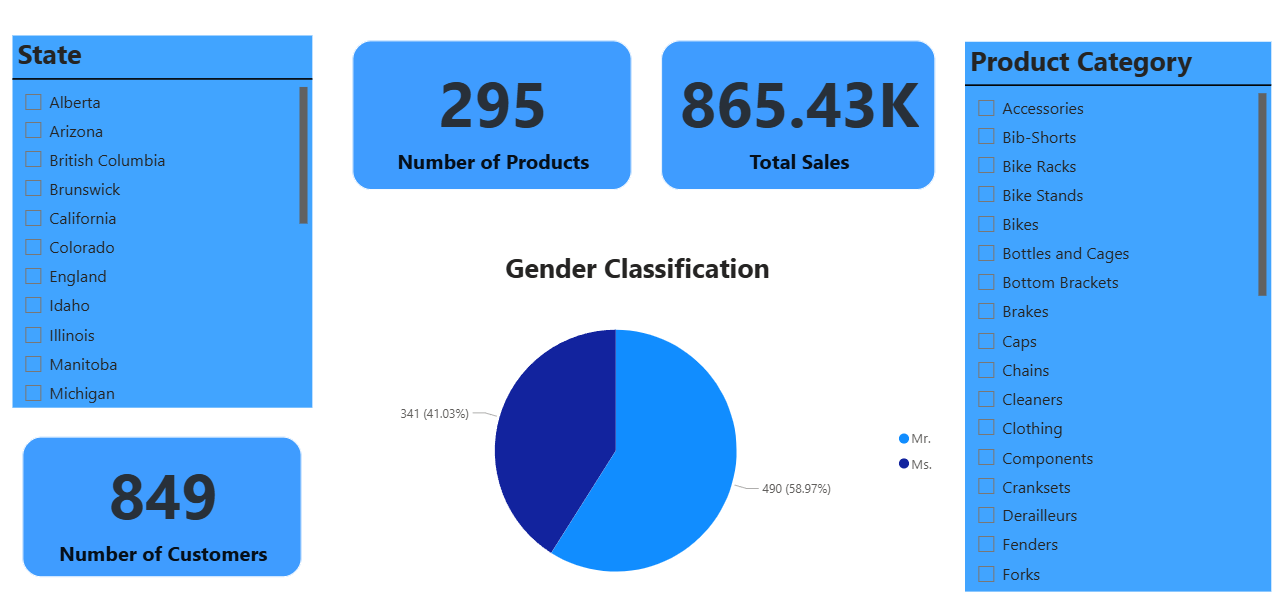

What the dashboard file says about the page in this screenshot:
{"tool":"powerbi","page":{"name":"Page 1","canvas":[1280,720],"ordinal":0},"visuals":[{"type":"cardVisual","fields":{"Data":["CountNonNull(Product.Product_ID)"]},"box":[350.8,72.4,288.6,159.2],"z":0},{"type":"cardVisual","fields":{"Data":["CountNonNull(Customer.Customer_ID)"]},"box":[22.4,466.7,288.6,150.5],"z":1000},{"type":"cardVisual","fields":{"Data":["Sum(SalesOrderHeader.Sub_Total)"]},"box":[658.1,72.4,283.6,159.2],"z":2000},{"type":"slicer","title":"State","fields":{"Values":["Address.State_Province"]},"box":[17.4,72.4,298.6,370.7],"z":3000},{"type":"pieChart","title":"Gender Classification","fields":{"Y":["CountNonNull(Customer.Customer_ID)"],"Category":["Customer.Title"]},"box":[332.1,285.1,614.5,363.2],"z":4000},{"type":"slicer","title":"Product Category","fields":{"Values":["ProductCategory.Name"]},"box":[965.3,78.6,304.8,547.3],"z":5000}]}

Visuals, with their boxes on the page's 1280x720 design canvas (x1, y1, x2, y2). These are canvas units, not pixel positions in the 1281x610 screenshot, which may show the page scaled, cropped or inside an application window:
cardVisual - CountNonNull(Product.Product_ID): 351/72/639/232
cardVisual - CountNonNull(Customer.Customer_ID): 22/467/311/617
cardVisual - Sum(SalesOrderHeader.Sub_Total): 658/72/942/232
"State" slicer: 17/72/316/443
"Gender Classification" pieChart: 332/285/947/648
"Product Category" slicer: 965/79/1270/626
